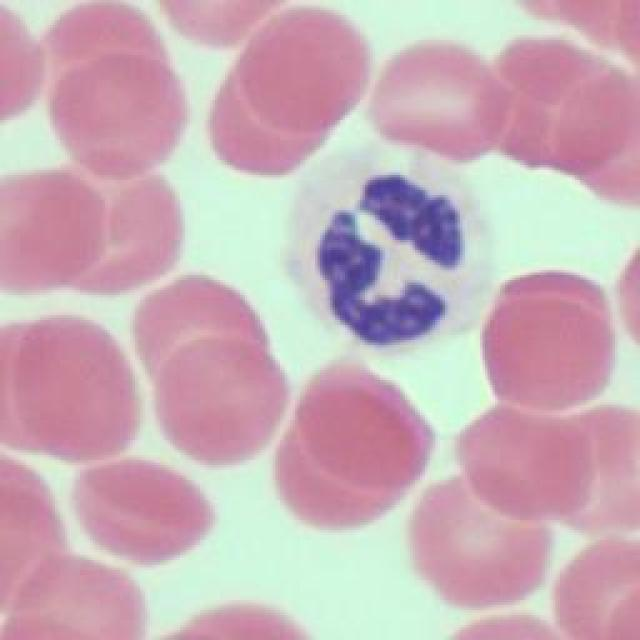RBC: (38, 152, 180, 300), (480, 39, 630, 171), (11, 316, 139, 464), (409, 474, 546, 608), (296, 362, 439, 486), (48, 58, 190, 178), (368, 40, 508, 160), (153, 343, 285, 465), (237, 6, 365, 129), (452, 410, 588, 525), (30, 1, 165, 114), (138, 274, 270, 386), (70, 465, 218, 563), (274, 421, 406, 529), (485, 299, 613, 409), (0, 172, 108, 296), (209, 64, 316, 176), (555, 70, 640, 208), (550, 409, 640, 539), (4, 565, 144, 640), (555, 539, 640, 636), (500, 270, 608, 345), (0, 495, 65, 603), (161, 0, 281, 52), (170, 602, 310, 640), (0, 7, 40, 125), (557, 0, 640, 45), (452, 615, 556, 640), (617, 251, 640, 346)
WBC: (281, 145, 494, 355)
